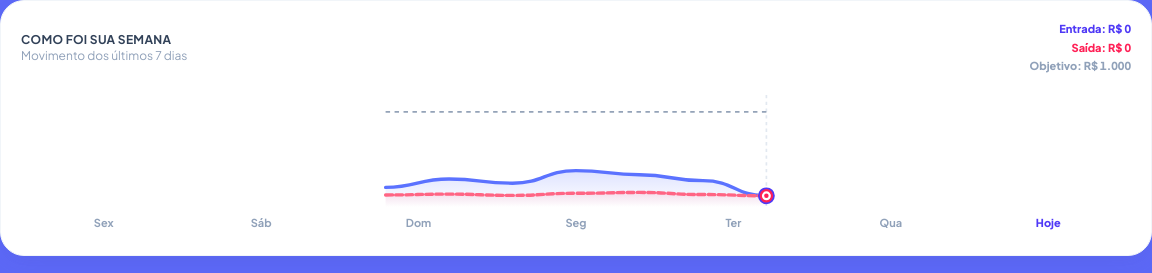
Scenario: WeeklyChart › returns to today when 'Hoje' is pressed
The image size is (1152, 273).
Click the button with aria-label "segunda". click: (576, 223)
box: 497,214 -> 655,231
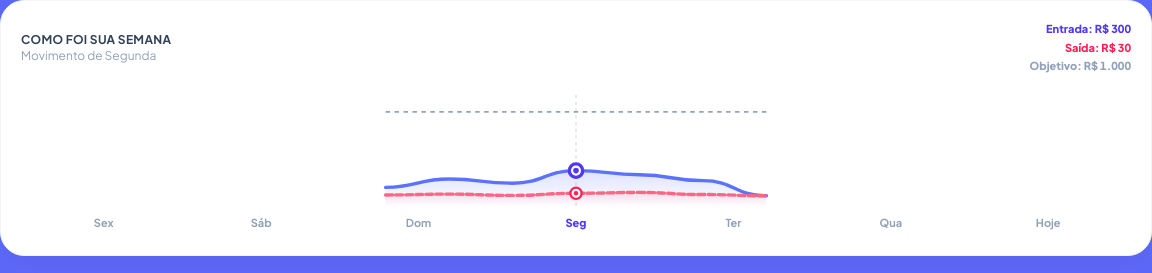
Click the button "Hoje". click: (1048, 223)
box: 970,214 -> 1127,231
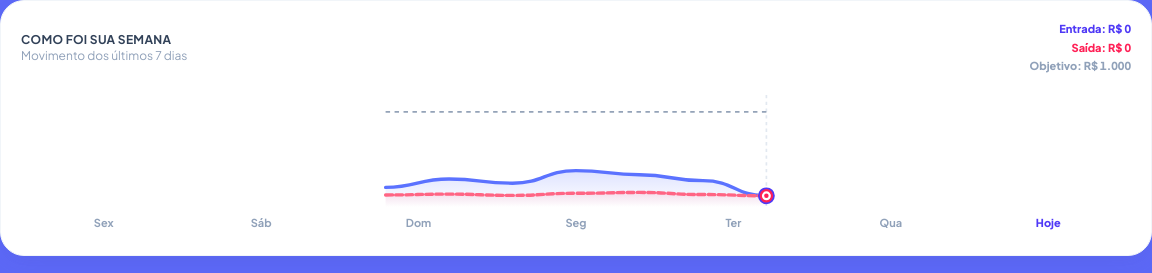
Now the text "Movimento dos últimos 7 dias" is shown, box 21,48 -> 187,64
Now the text "Entrada: R$ 0" is shown, box 1059,21 -> 1131,38
Now the text "Saída: R$ 0" is shown, box 1072,40 -> 1131,56
